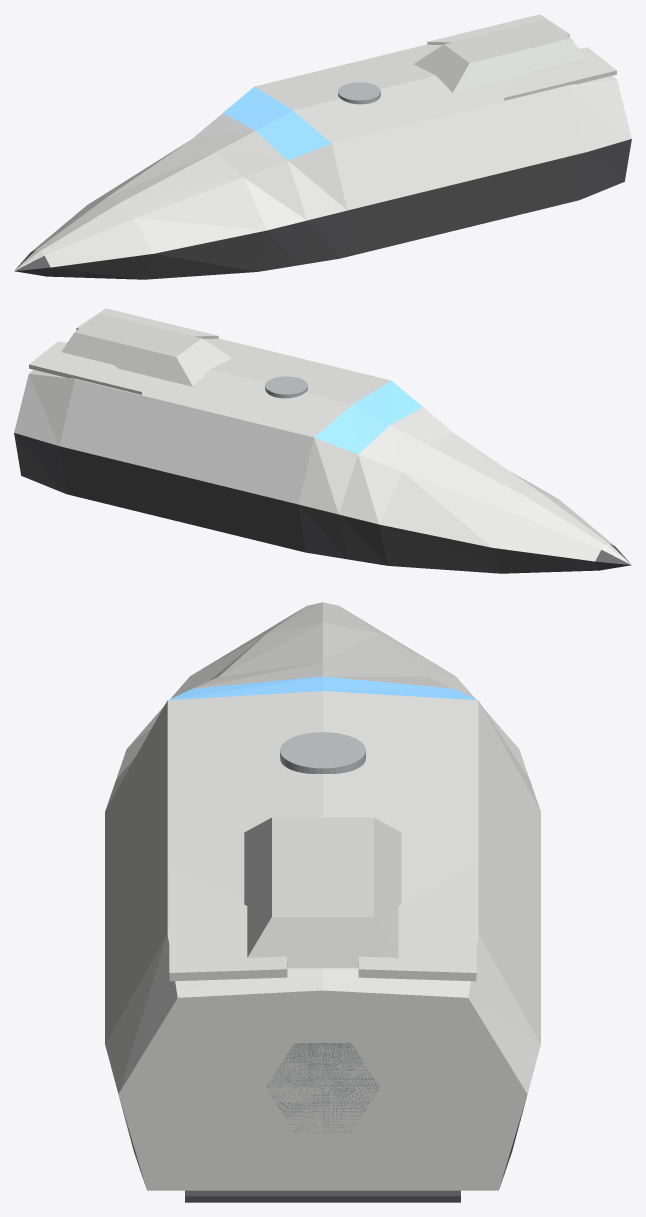
File: _tmp_B4_stowed.glb
3 views of the same model, one above another, from view 1: azimuth 30°, elevation 25°; view 2: azimuth 150°, elevation 25°; view 3: azimuth 270°, elevation 25° (orthographic). The views are drawn at different scales.
Parts seen in each view (by area): view 1: hull, belly_tps, kit_pod, glazing, fin_port, fin_stbd, hatch_trunk; view 2: hull, belly_tps, kit_pod, glazing, fin_stbd, fin_port, hatch_trunk; view 3: hull, kit_pod, fin_stbd, fin_port, torch_nozzle, glazing, body_flap, hatch_trunk.
Boxes of the visible parts, left/top/right/bottom form: hull: left=14, top=44, right=631, bottom=270; belly_tps: left=14, top=139, right=631, bottom=279; kit_pod: left=414, top=19, right=584, bottom=92; glazing: left=223, top=87, right=331, bottom=160; fin_port: left=504, top=47, right=616, bottom=100; fin_stbd: left=427, top=14, right=569, bottom=44; hatch_trunk: left=338, top=82, right=380, bottom=104; hull: left=14, top=338, right=631, bottom=564; belly_tps: left=14, top=433, right=631, bottom=573; kit_pod: left=61, top=313, right=231, bottom=386; glazing: left=314, top=381, right=422, bottom=454; fin_stbd: left=29, top=341, right=141, bottom=394; fin_port: left=76, top=308, right=218, bottom=338; hatch_trunk: left=265, top=376, right=307, bottom=398; hull: left=105, top=602, right=540, bottom=1190; kit_pod: left=244, top=817, right=401, bottom=968; fin_stbd: left=358, top=863, right=476, bottom=981; fin_port: left=169, top=863, right=287, bottom=981; torch_nozzle: left=266, top=1043, right=379, bottom=1132; glazing: left=168, top=676, right=477, bottom=700; body_flap: left=185, top=1190, right=460, bottom=1202; hatch_trunk: left=280, top=732, right=365, bottom=773.
Size of the model in its own units: 12.8 by 2.86 by 4.26.
